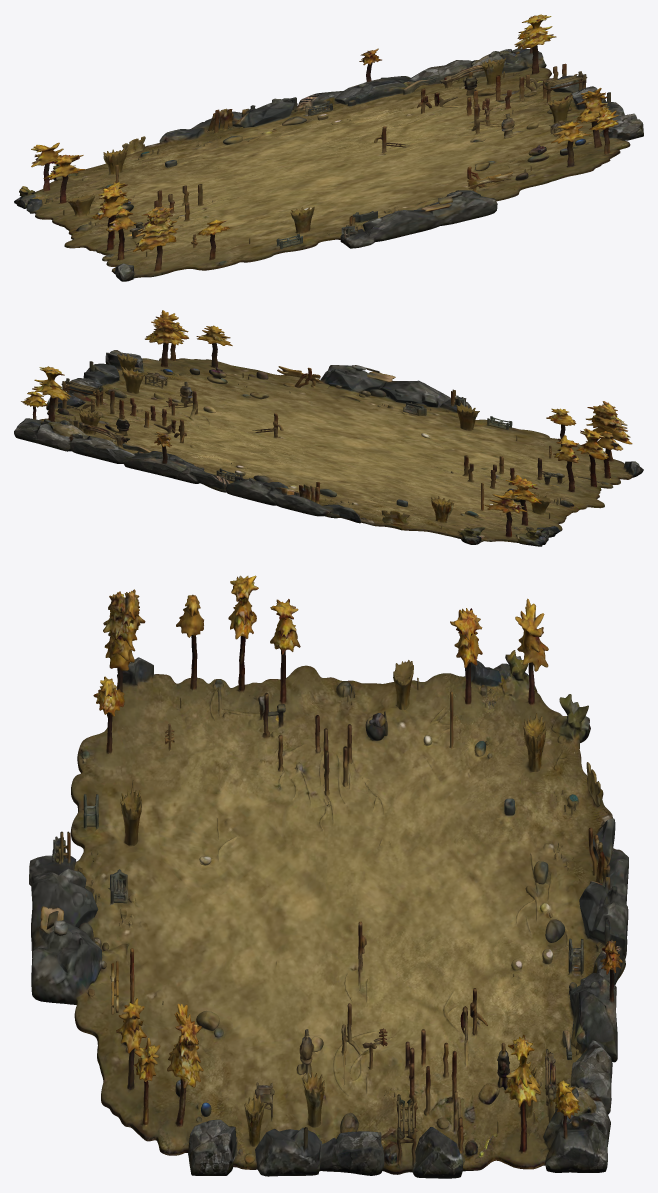
Rendered from battlefield.glb.
3 views of the same model, one above another, from view 1: azimuth 30°, elevation 25°; view 2: azimuth 150°, elevation 25°; view 3: azimuth 270°, elevation 25° (orthographic). The views are drawn at different scales.
Parts seen in each view (by area): view 1: tripo_node_1a692eca-61f9-4a7f-9c8c-1f5a40a53209; view 2: tripo_node_1a692eca-61f9-4a7f-9c8c-1f5a40a53209; view 3: tripo_node_1a692eca-61f9-4a7f-9c8c-1f5a40a53209.
Boxes of the visible parts, x1,y1,x2,y2 form: tripo_node_1a692eca-61f9-4a7f-9c8c-1f5a40a53209: (14, 14, 643, 281); tripo_node_1a692eca-61f9-4a7f-9c8c-1f5a40a53209: (14, 310, 643, 546); tripo_node_1a692eca-61f9-4a7f-9c8c-1f5a40a53209: (29, 575, 628, 1178).
Bounding box in the file's own units: 17.66 × 2 × 8.82.
Materials: 1 (1 with a texture image).
